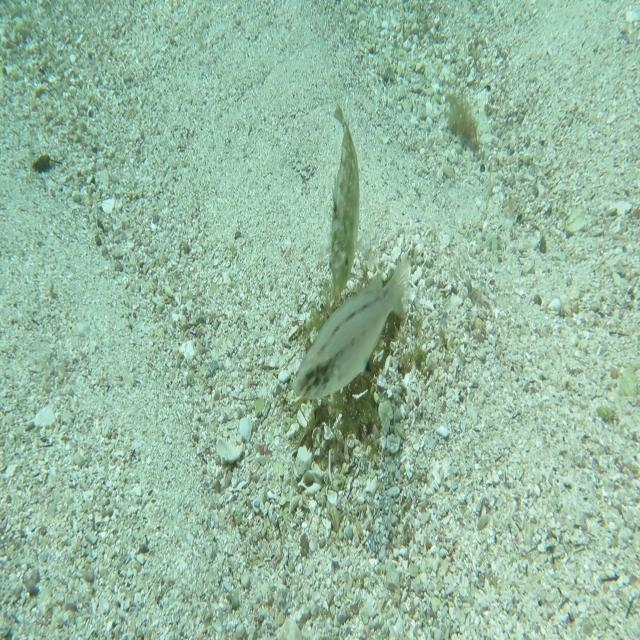CHASE_FLEE: (327, 102, 362, 303)
female: (290, 250, 414, 404)
nest: (274, 241, 419, 478)
